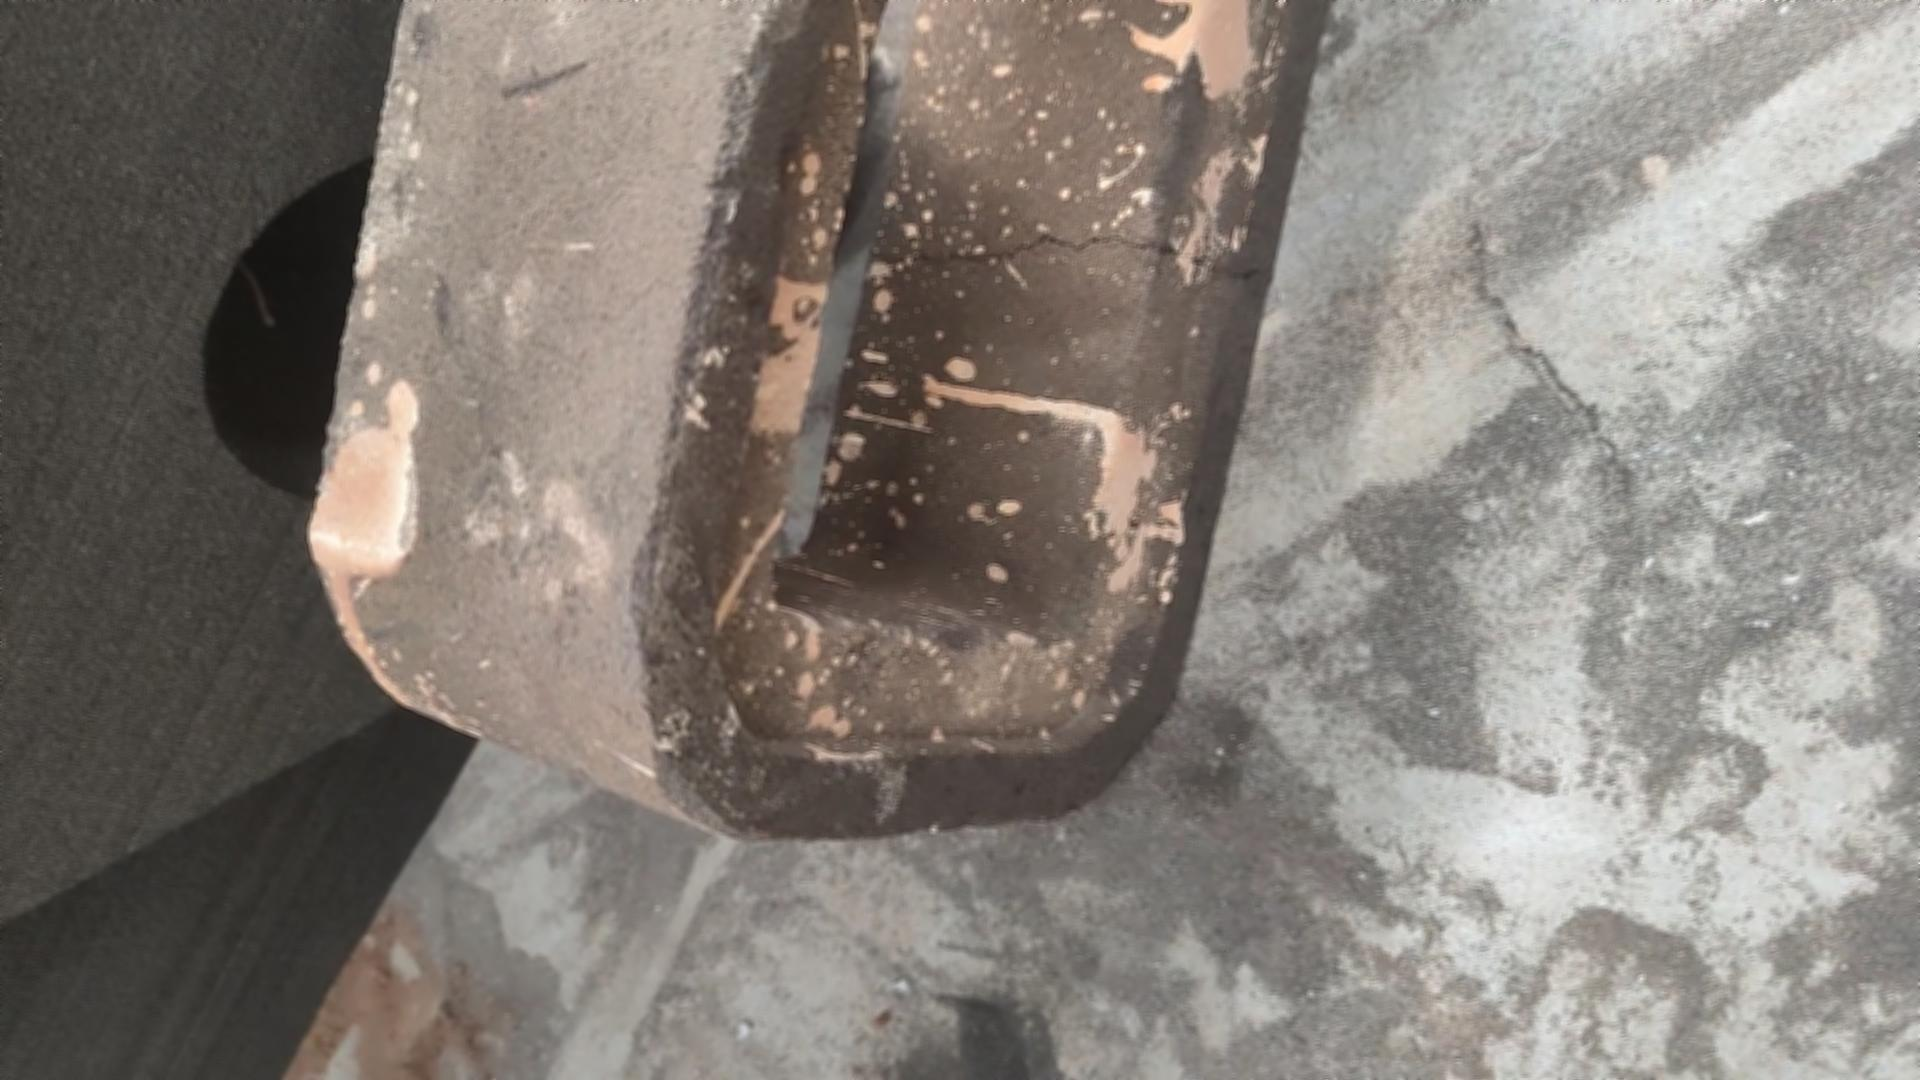pouring hole: (204, 153, 491, 498)
